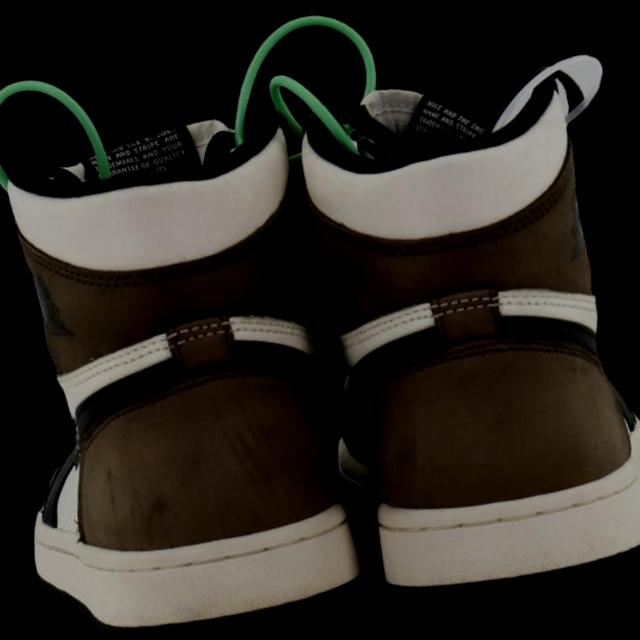nike_original_jordan: (286, 41, 640, 625), (0, 109, 369, 640)
